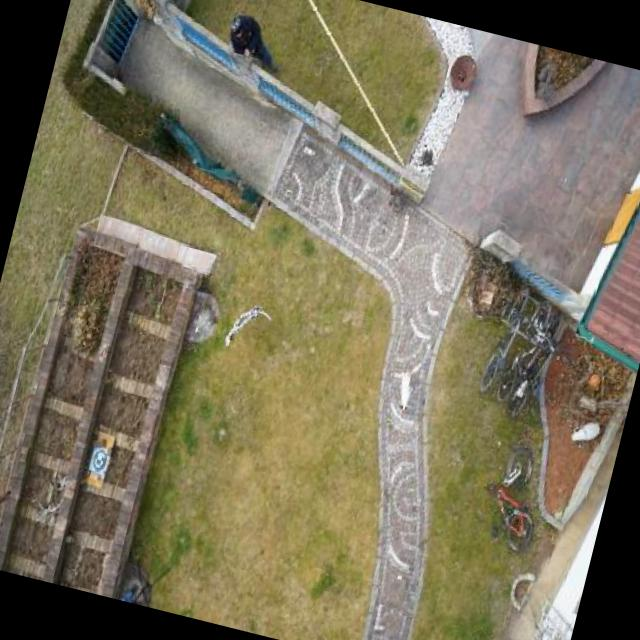Person: (210, 6, 292, 79)
